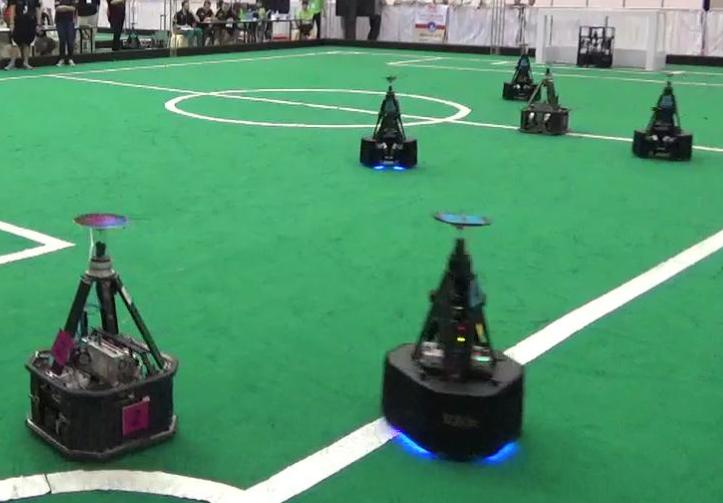robot: (24, 209, 179, 466), (375, 211, 529, 467), (356, 71, 421, 172), (631, 68, 696, 163), (516, 65, 570, 138), (500, 40, 542, 103)
